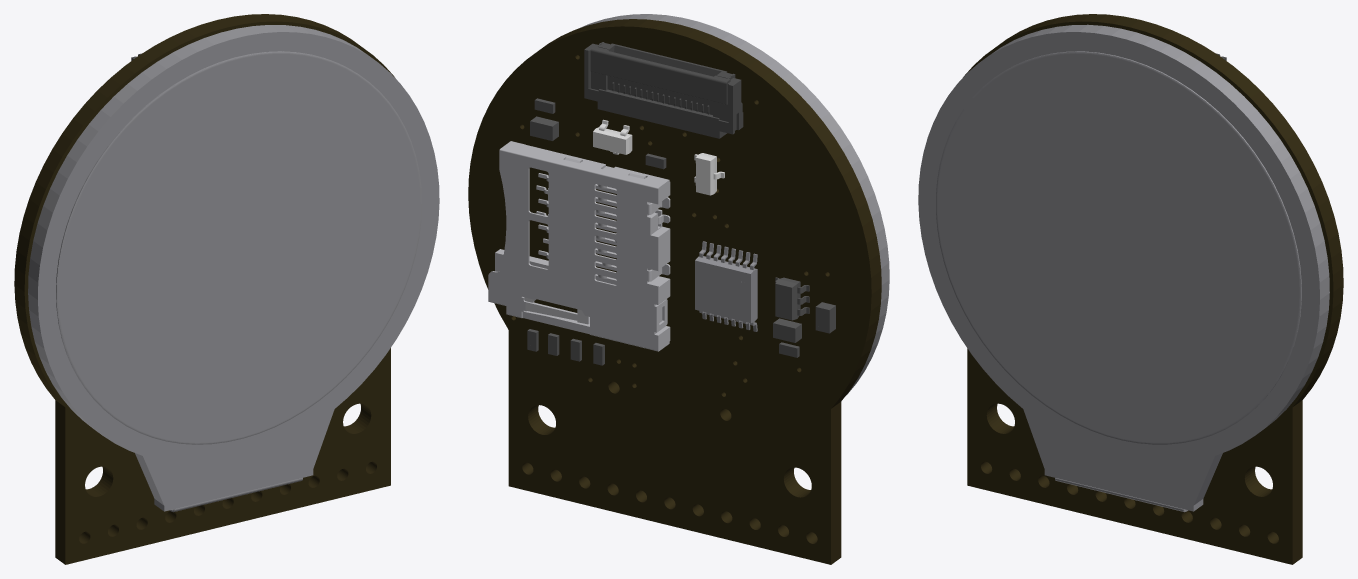
Rendered from adafruit-gc9a01a-round-tft.glb.
3 renders of one model, left to right at view 1: azimuth 30°, elevation 25°; view 2: azimuth 150°, elevation 25°; view 3: azimuth 330°, elevation 25°, orthographic.
Parts seen in each view (by area): view 1: adafruit-gc9a01a-round-tft; view 2: adafruit-gc9a01a-round-tft; view 3: adafruit-gc9a01a-round-tft.
Boxes of the visible parts, x1=… form: adafruit-gc9a01a-round-tft: x1=14, y1=14, x2=439, y2=564; adafruit-gc9a01a-round-tft: x1=468, y1=14, x2=889, y2=564; adafruit-gc9a01a-round-tft: x1=918, y1=14, x2=1343, y2=564.
Bounding box in the file's own units: 36.07 × 42.16 × 5.21.
